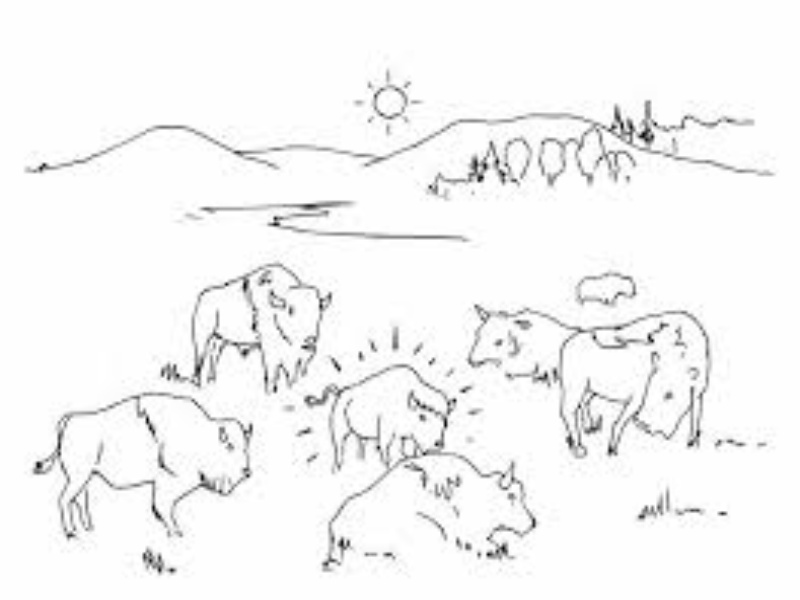buffalo: (24, 267, 733, 567)
